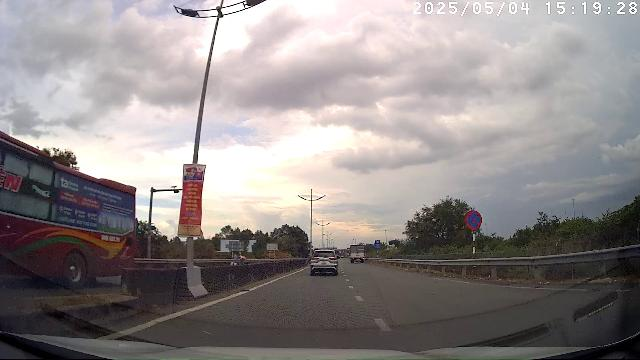130-cam-dung-va-do-xe: (465, 210, 483, 230)
